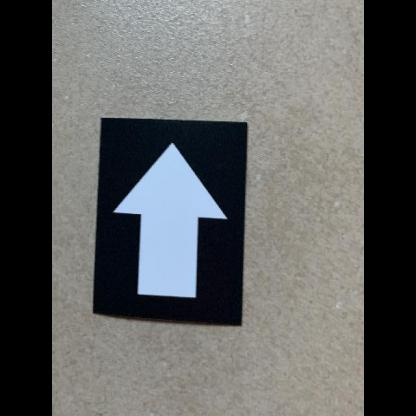up: (93, 117, 249, 331)
